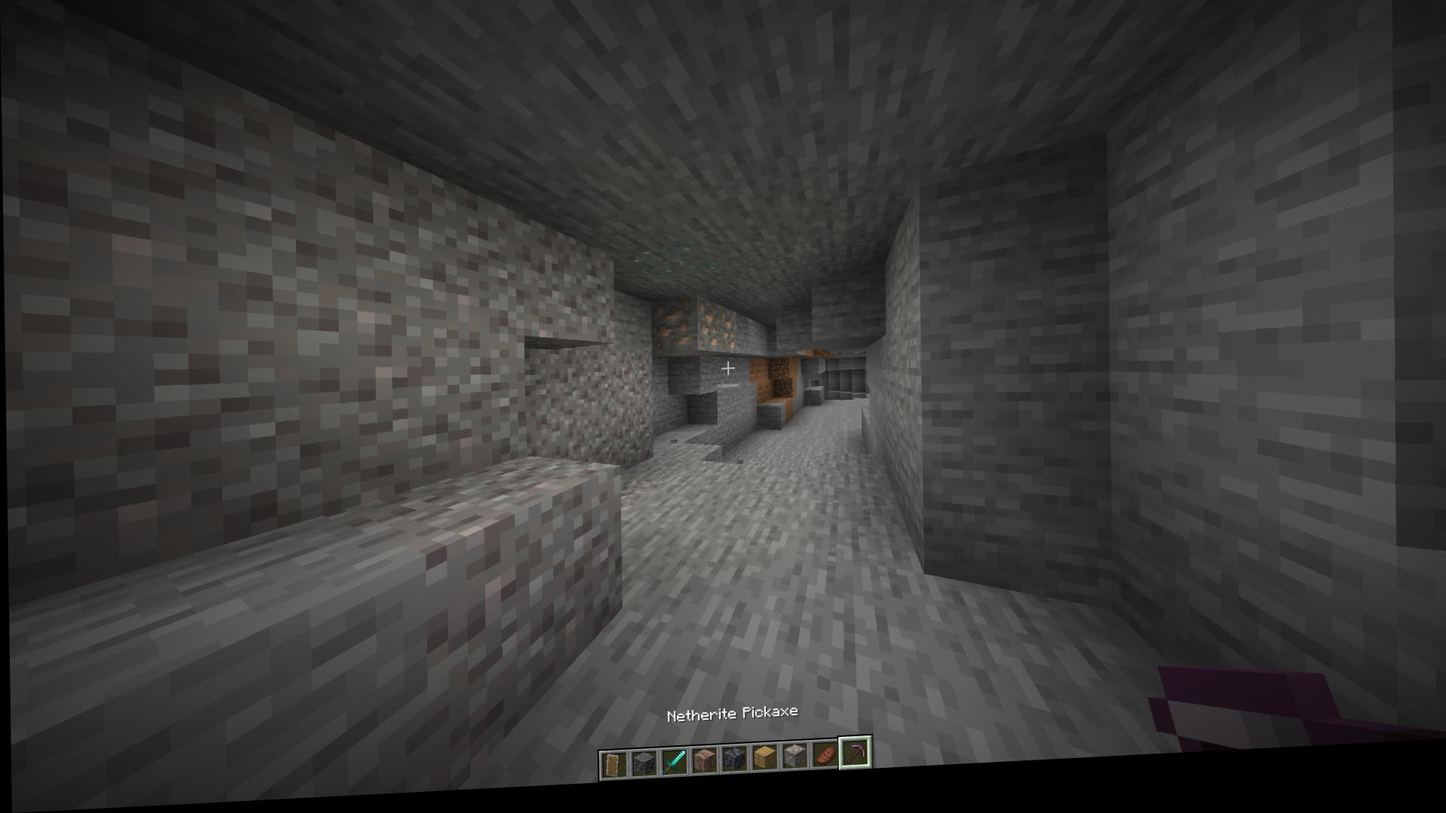iron ore: (648, 304, 694, 359), (691, 300, 719, 359), (715, 309, 738, 358)
